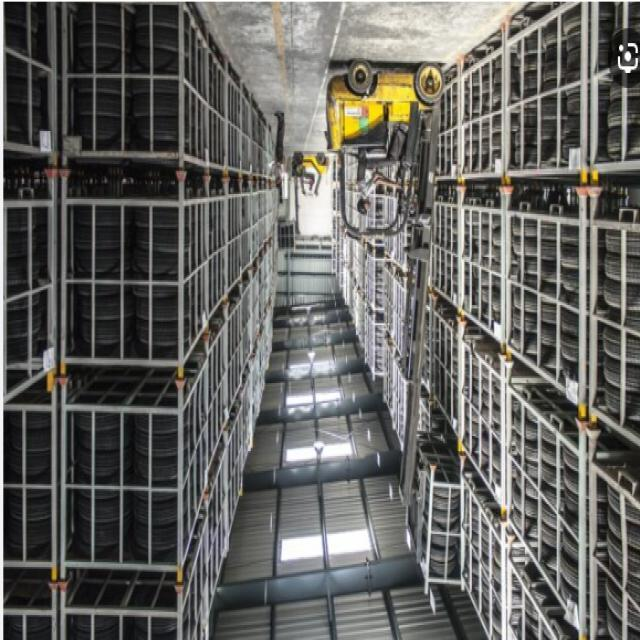shoes: (395, 121, 415, 135), (273, 109, 285, 121)
